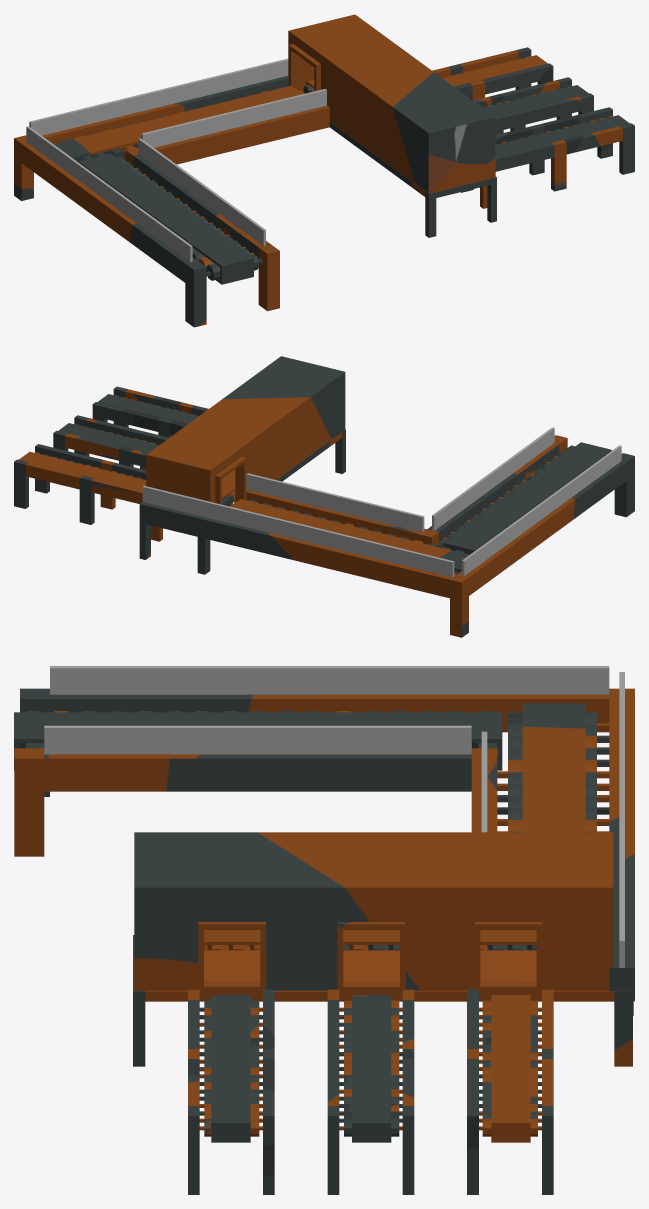
The model's file is convererk beklt.fbx.
The picture shows the model from 3 angles, top to bottom: view 1: azimuth 30°, elevation 25°; view 2: azimuth 150°, elevation 25°; view 3: azimuth 270°, elevation 25°; orthographic projection. The views are drawn at different scales.
Parts seen in each view (by area): view 1: converor_belt, glas_3, glas_2, glas_4, glas_1; view 2: converor_belt, glas_3, glas_2, glas_4, glas_1; view 3: converor_belt, glas_4, glas_1, glas_3.
Boxes of the visible parts, box(x1,y1,x2,y2) form: converor_belt: box(14, 14, 634, 327); glas_3: box(29, 58, 288, 135); glas_2: box(141, 89, 326, 147); glas_4: box(26, 126, 192, 262); glas_1: box(138, 138, 265, 245); converor_belt: box(14, 356, 634, 637); glas_3: box(142, 485, 454, 577); glas_2: box(246, 473, 424, 532); glas_4: box(462, 445, 621, 575); glas_1: box(432, 427, 554, 530); converor_belt: box(14, 688, 634, 1194); glas_4: box(50, 666, 609, 694); glas_1: box(44, 725, 471, 754); glas_3: box(619, 672, 624, 967).
Size of the model in its own units: 8.81 by 1.78 by 5.64.
